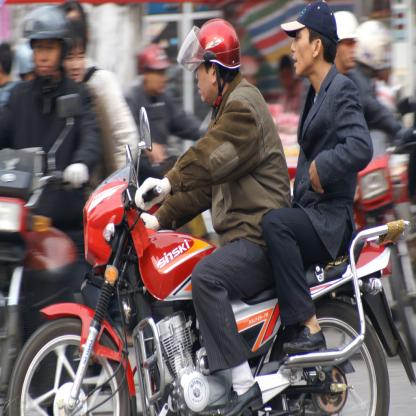Helmet: (15, 4, 69, 90), (188, 20, 246, 98), (350, 18, 398, 72)
